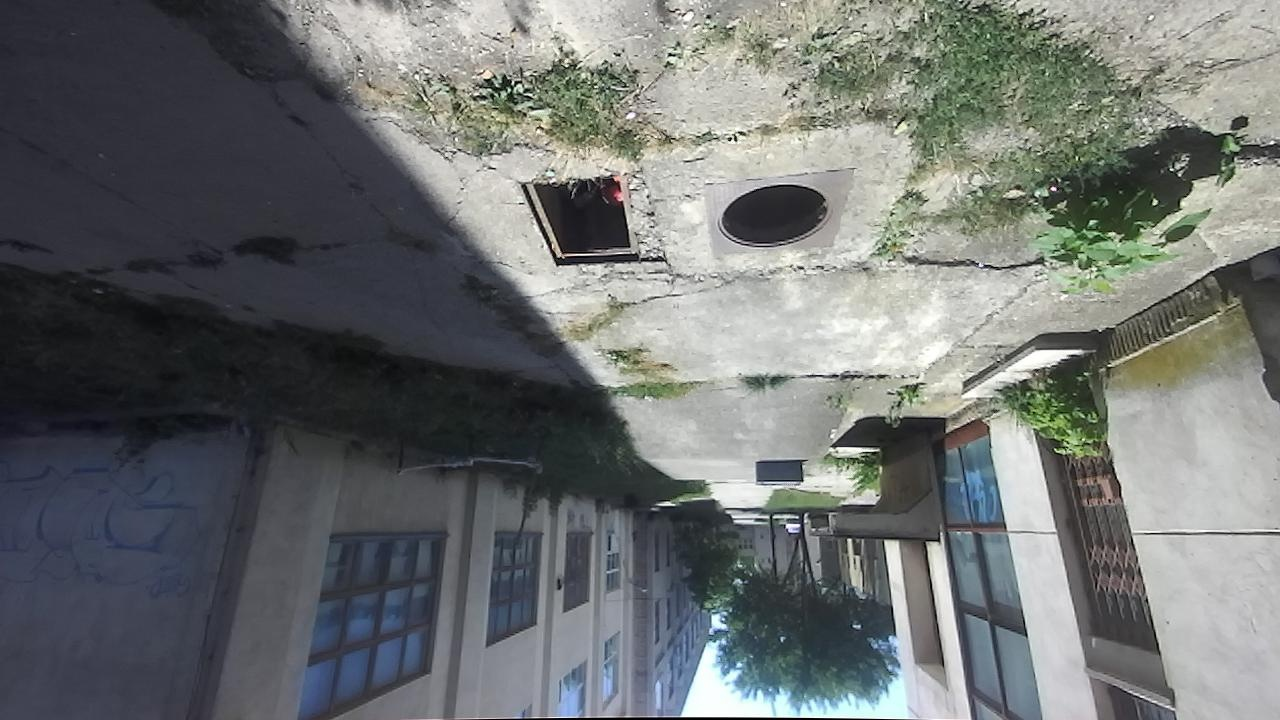drain: (510, 166, 646, 269), (707, 183, 837, 251)
